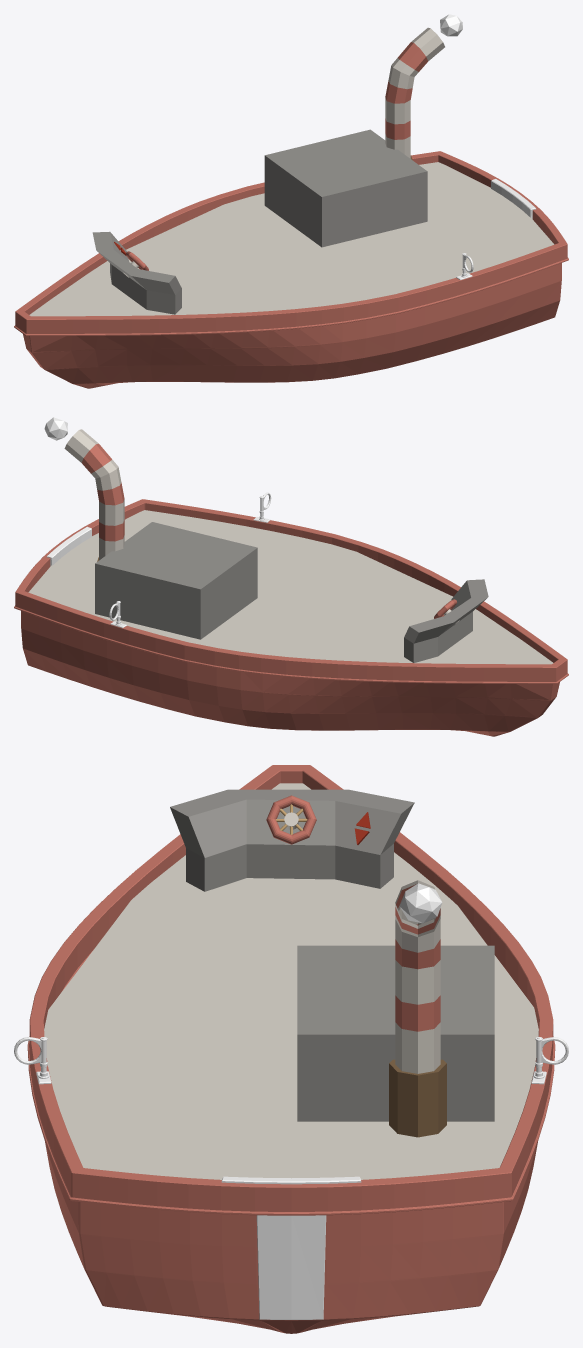
Rendered from boat2.fbx.
3 views of the same model, one above another, from view 1: azimuth 30°, elevation 25°; view 2: azimuth 150°, elevation 25°; view 3: azimuth 270°, elevation 25° (orthographic). The views are drawn at different scales.
Parts seen in each view (by area): view 1: shipBody, deck, room, tube, Control_table; view 2: shipBody, deck, room, tube, Control_table, gas; view 3: deck, shipBody, room, Control_table, tube, wheel, gas.
Boxes of the visible parts, <box> form: shipBody: <box>14,151,568,388</box>; deck: <box>29,162,554,316</box>; room: <box>264,129,427,247</box>; tube: <box>385,27,444,160</box>; Control_table: <box>92,231,181,314</box>; shipBody: <box>14,492,568,736</box>; deck: <box>28,510,553,664</box>; room: <box>95,522,257,639</box>; tube: <box>64,429,124,561</box>; Control_table: <box>404,579,488,662</box>; gas: <box>44,417,67,440</box>; deck: <box>44,783,538,1179</box>; shipBody: <box>14,765,568,1333</box>; room: <box>297,945,494,1121</box>; Control_table: <box>170,789,414,891</box>; tube: <box>389,880,446,1137</box>; wheel: <box>266,795,316,844</box>; gas: <box>399,883,442,923</box>.
Bounding box in the file's own units: 122 × 57.16 × 67.23.
